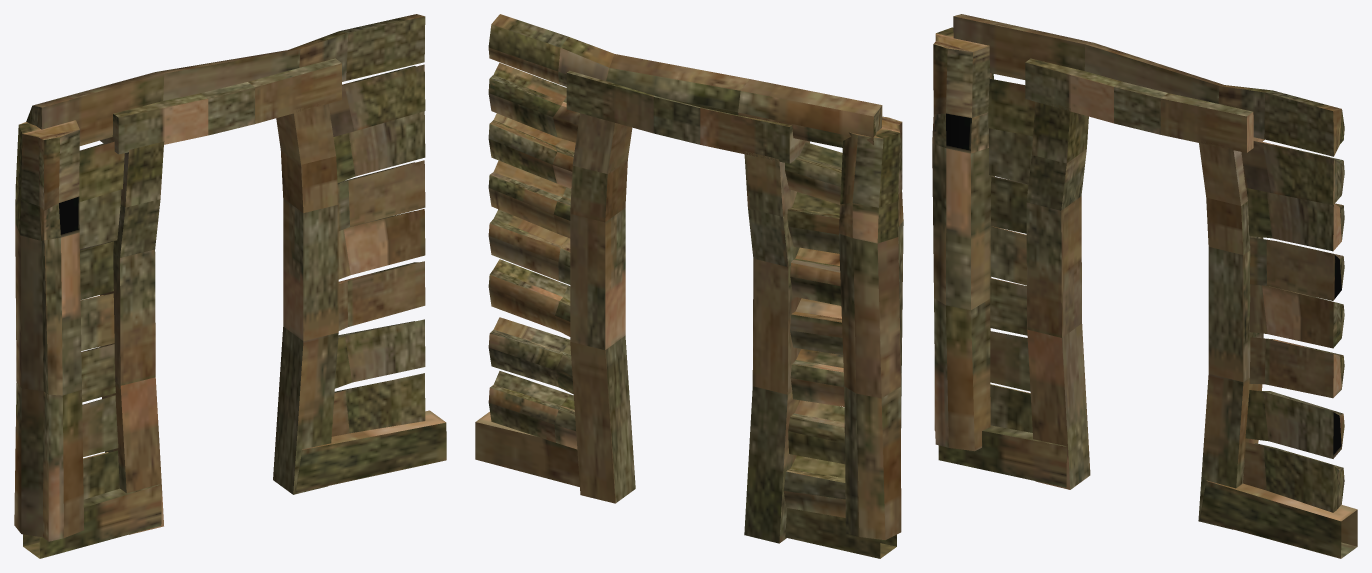
Rendered from House_01_door.obj.
3 renders of one model, left to right at view 1: azimuth 30°, elevation 25°; view 2: azimuth 150°, elevation 25°; view 3: azimuth 330°, elevation 25°, orthographic.
Parts seen in each view (by area): view 1: Curve.017_Mesh.009; view 2: Curve.017_Mesh.009; view 3: Curve.017_Mesh.009.
Part boxes in pixels (x1=…): Curve.017_Mesh.009: x1=14, y1=14, x2=446, y2=558; Curve.017_Mesh.009: x1=475, y1=14, x2=903, y2=558; Curve.017_Mesh.009: x1=932, y1=14, x2=1357, y2=558.
Size of the model in its own units: 2.06 by 2.1 by 0.28.
